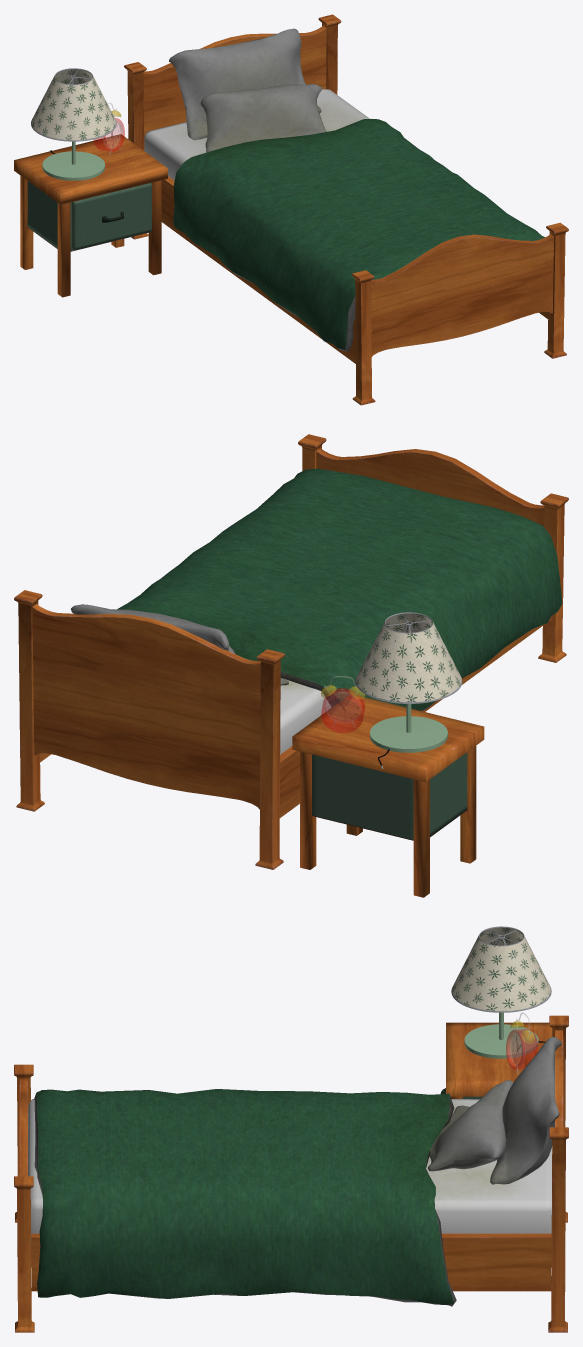
File: bed__bedside_table.glb
3 views of the same model, one above another, from view 1: azimuth 30°, elevation 25°; view 2: azimuth 150°, elevation 25°; view 3: azimuth 270°, elevation 25° (orthographic). The views are drawn at different scales.
Visible parts, largest first — view 1: Bed, Mini_Table, LampShade, Clock; view 2: Bed, Mini_Table, LampShade, Clock; view 3: Bed, LampShade, Mini_Table, Clock.
Part boxes in pixels (x1,y1,x2,y2): Bed: (124,14,568,405); Mini_Table: (14,134,167,297); LampShade: (31,68,116,180); Clock: (93,103,124,155); Bed: (14,434,568,869); Mini_Table: (292,694,484,897); LampShade: (355,612,462,768); Clock: (321,676,364,732); Bed: (14,1015,568,1332); LampShade: (451,926,551,1058); Mini_Table: (440,1022,552,1099); Clock: (506,1012,537,1074).
Bounding box in the file's own units: 167 × 93.34 × 202.
4 materials, 4 textured.
